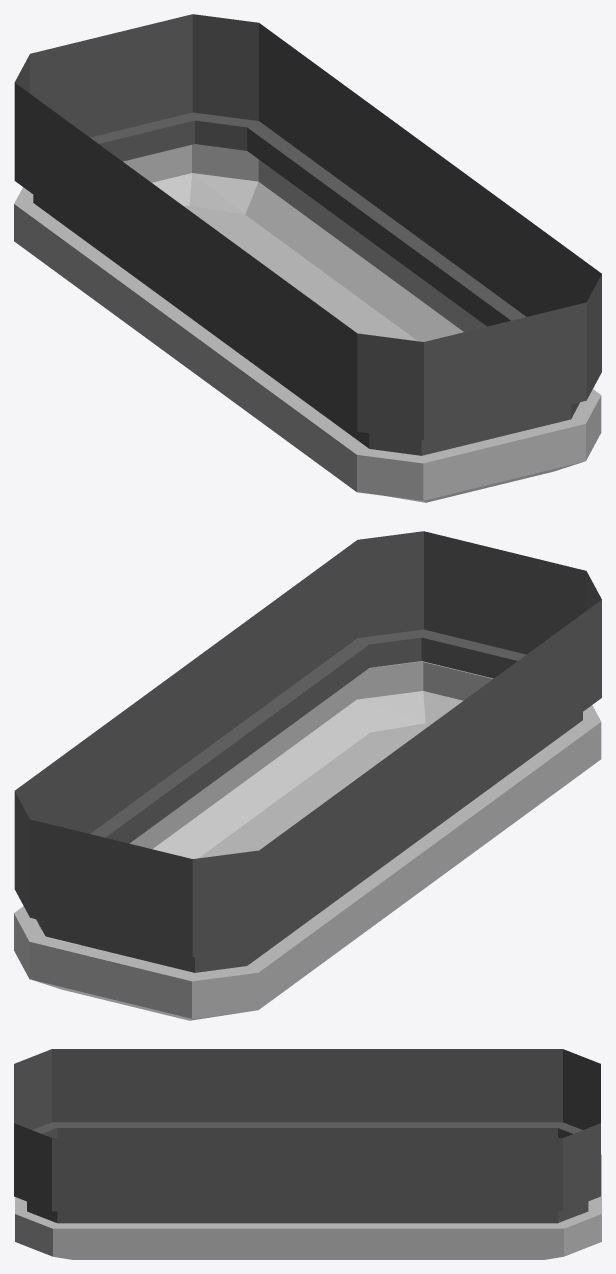
The model's file is light_box_A.FBX.
The picture shows the model from 3 angles, top to bottom: view 1: azimuth 30°, elevation 25°; view 2: azimuth 150°, elevation 25°; view 3: azimuth 270°, elevation 25°; orthographic projection. The views are drawn at different scales.
Visible parts, largest first — view 1: light_box_A, light_box_A_glow; view 2: light_box_A, light_box_A_glow; view 3: light_box_A, light_box_A_glow.
Part boxes in pixels (x1=…): light_box_A: x1=14, y1=14, x2=601, y2=455; light_box_A_glow: x1=14, y1=144, x2=601, y2=502; light_box_A: x1=14, y1=531, x2=601, y2=972; light_box_A_glow: x1=14, y1=661, x2=601, y2=1020; light_box_A: x1=14, y1=1049, x2=600, y2=1223; light_box_A_glow: x1=15, y1=1154, x2=601, y2=1259.
Bounding box in the file's own units: 16.21 × 11.18 × 45.29.
